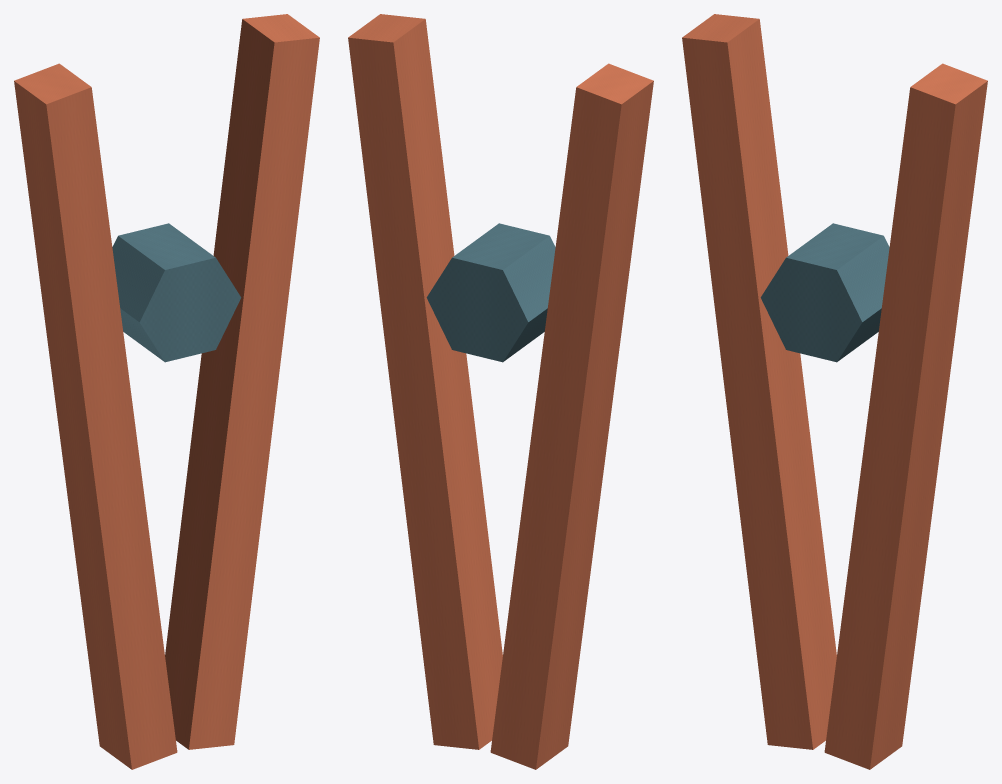
Rendered from atlas100-s047-a05.lod1.glb.
3 views of the same model, side by side, from view 1: azimuth 30°, elevation 25°; view 2: azimuth 150°, elevation 25°; view 3: azimuth 330°, elevation 25° (orthographic).
Visible parts, largest first — view 1: atlas100-s047-a05:part-001, atlas100-s047-a05:part-000, atlas100-s047-a05:part-002; view 2: atlas100-s047-a05:part-001, atlas100-s047-a05:part-000, atlas100-s047-a05:part-002; view 3: atlas100-s047-a05:part-000, atlas100-s047-a05:part-001, atlas100-s047-a05:part-002.
Boxes of the visible parts, x1,y1,x2,y2 form: atlas100-s047-a05:part-001: (165,14,319,749); atlas100-s047-a05:part-000: (14,63,177,769); atlas100-s047-a05:part-002: (112,223,241,362); atlas100-s047-a05:part-001: (348,14,502,749); atlas100-s047-a05:part-000: (490,63,653,769); atlas100-s047-a05:part-002: (426,223,555,362); atlas100-s047-a05:part-000: (682,14,836,749); atlas100-s047-a05:part-001: (824,63,987,769); atlas100-s047-a05:part-002: (760,223,889,362).
Bounding box in the file's own units: 0.2936 × 0.7102 × 0.0874.
2 materials, 2 textured.
